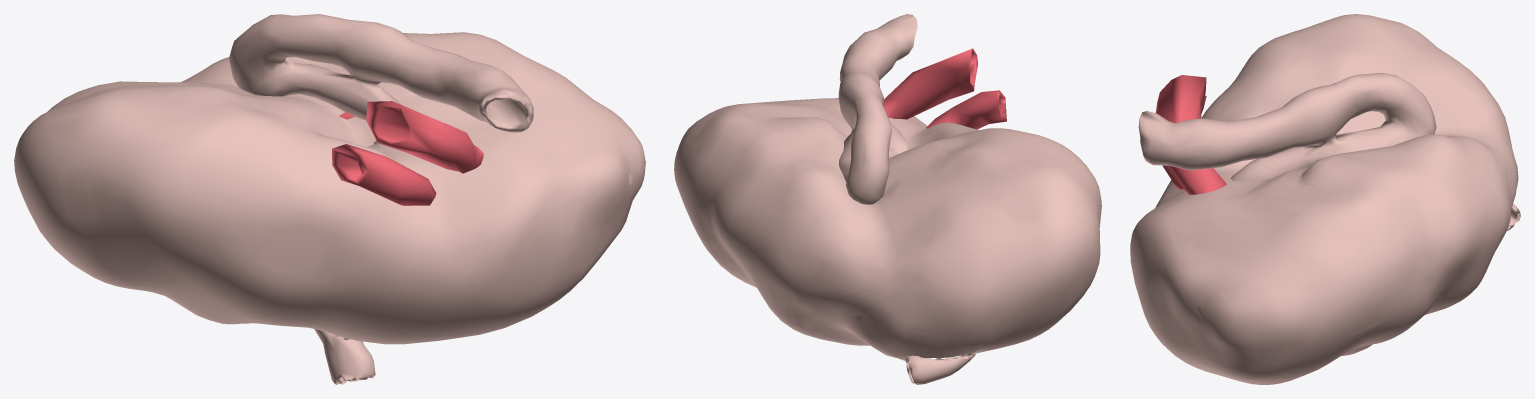
File: nih_m_lymph_node-40.glb
3 views of the same model, side by side, from view 1: azimuth 30°, elevation 25°; view 2: azimuth 150°, elevation 25°; view 3: azimuth 270°, elevation 25° (orthographic). The views are drawn at different scales.
Visible parts, largest first — view 1: Yao_capsule_of_lymph_node, Yao_efferent_lymph_node, Yao_blood_vasculature, Yao_afferent_lymphatic_vessel; view 2: Yao_capsule_of_lymph_node, Yao_efferent_lymph_node, Yao_blood_vasculature, Yao_afferent_lymphatic_vessel; view 3: Yao_capsule_of_lymph_node, Yao_efferent_lymph_node, Yao_blood_vasculature.
Part boxes in pixels (x1,y1,x2,y2): Yao_capsule_of_lymph_node: [14, 32, 645, 344]; Yao_efferent_lymph_node: [229, 14, 533, 151]; Yao_blood_vasculature: [332, 101, 483, 205]; Yao_afferent_lymphatic_vessel: [314, 329, 375, 384]; Yao_capsule_of_lymph_node: [674, 98, 1101, 360]; Yao_efferent_lymph_node: [838, 14, 917, 204]; Yao_blood_vasculature: [884, 48, 1006, 129]; Yao_afferent_lymphatic_vessel: [905, 353, 976, 384]; Yao_capsule_of_lymph_node: [1130, 14, 1518, 384]; Yao_efferent_lymph_node: [1138, 73, 1436, 181]; Yao_blood_vasculature: [1156, 75, 1226, 194].
Bounding box in the file's own units: 0.0183 × 0.0107 × 0.013.
